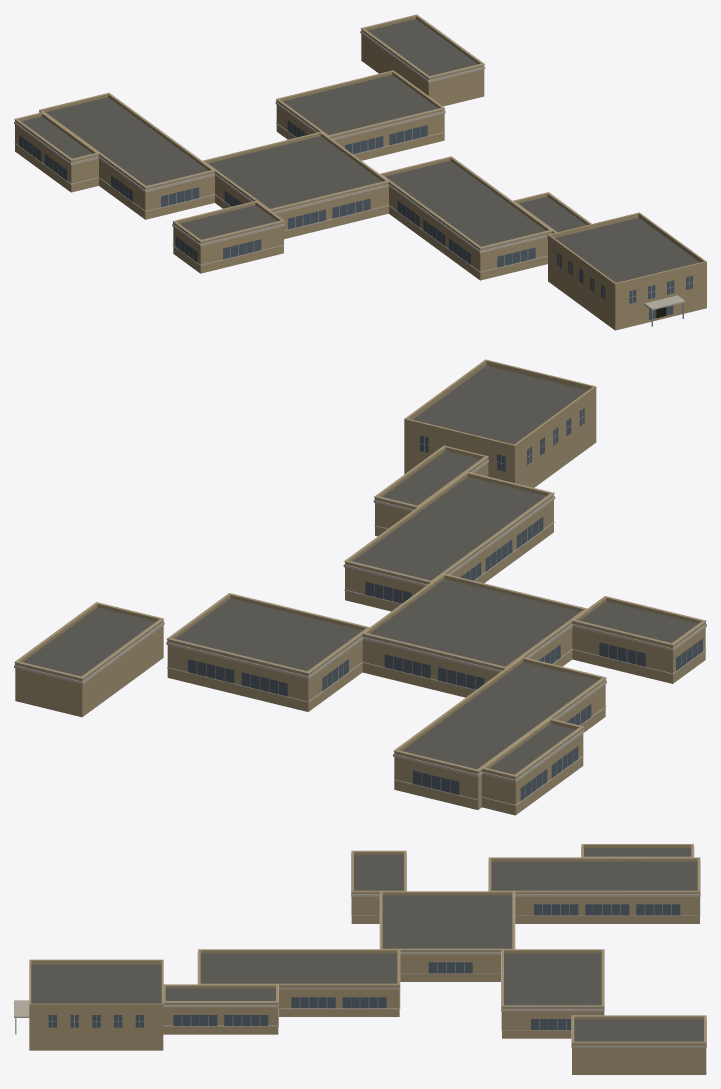
Rendered from romine-school.glb.
3 views of the same model, one above another, from view 1: azimuth 30°, elevation 25°; view 2: azimuth 150°, elevation 25°; view 3: azimuth 270°, elevation 25° (orthographic). The views are drawn at different scales.
Parts seen in each view (by area): view 1: romine_school; view 2: romine_school; view 3: romine_school.
Part boxes in pixels (x1=…): romine_school: x1=14, y1=14, x2=706, y2=330; romine_school: x1=14, y1=359, x2=706, y2=815; romine_school: x1=14, y1=844, x2=706, y2=1074.
Bounding box in the file's own units: 73.74 × 8 × 109.
